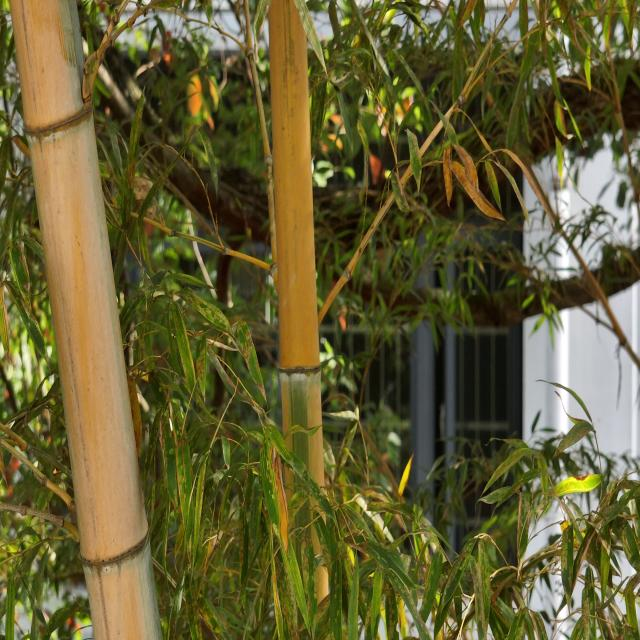Bamboo-shoots: (10, 0, 162, 640)
